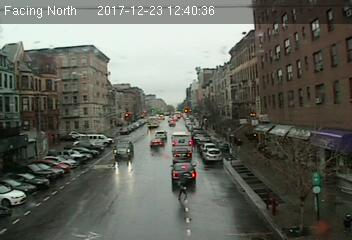car: (171, 162, 196, 184), (113, 140, 135, 159), (202, 148, 222, 161), (172, 148, 191, 161), (150, 138, 165, 148)
truck: (171, 132, 192, 147)
